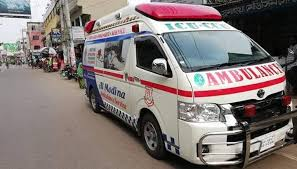ambulance: (81, 1, 294, 166)
